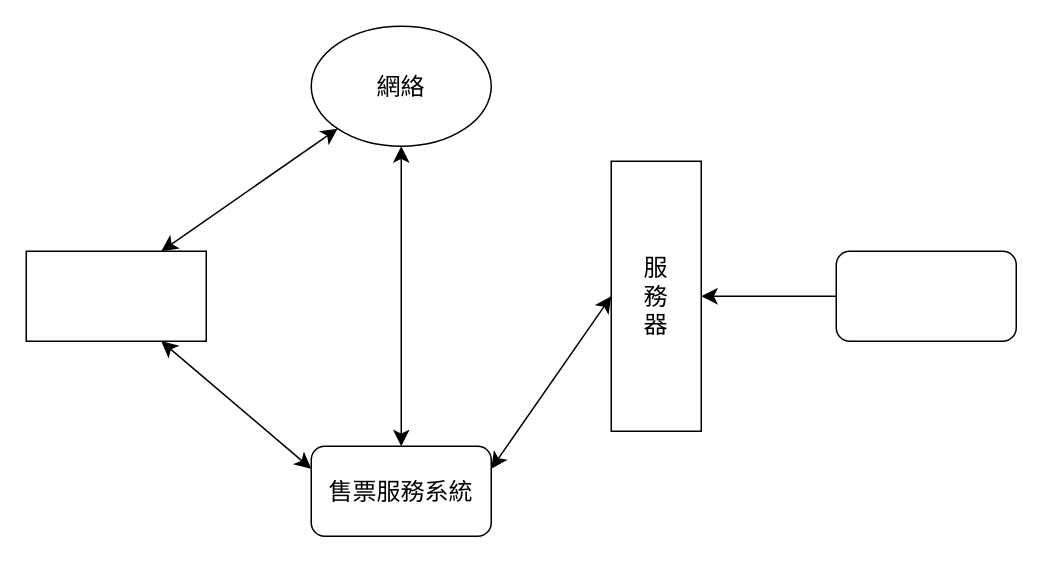
The diagram is 1043 pixels wide and 563 high, and some of its shapes have lost their labels. Each missing label, with the centre of its shape:
"客戶端系統" belongs at point (115, 295).
"服務器管理系統" belongs at point (925, 295).
